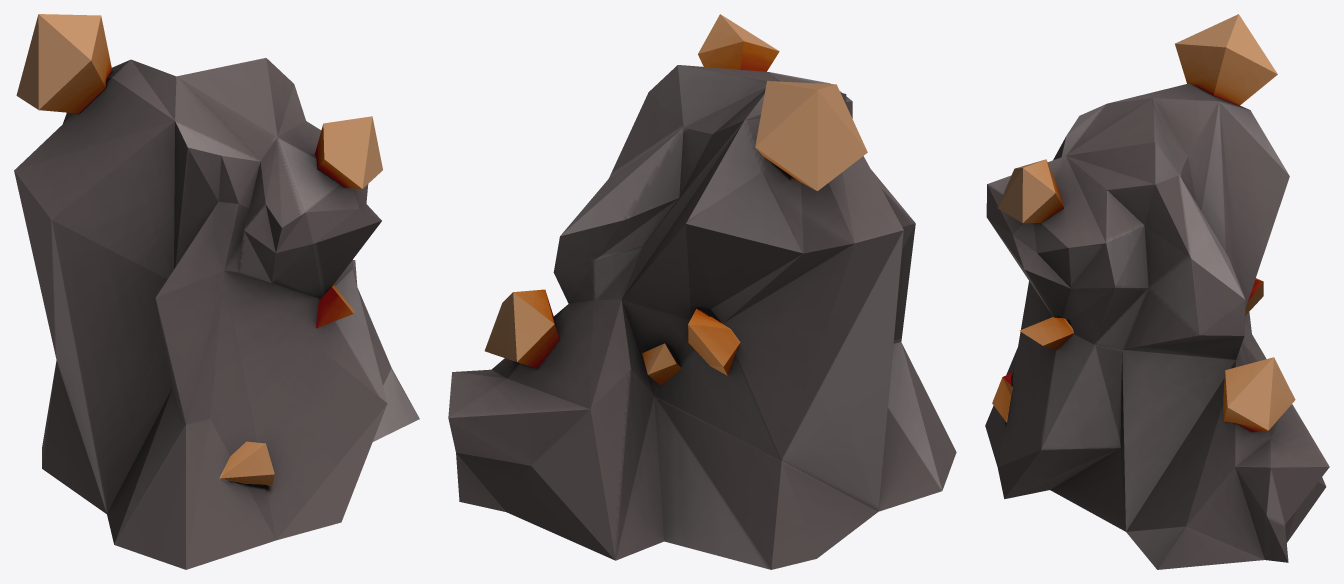
File: vein.FBX
The picture shows the model from 3 angles, left to right: view 1: azimuth 30°, elevation 25°; view 2: azimuth 150°, elevation 25°; view 3: azimuth 270°, elevation 25°; orthographic projection. The views are drawn at different scales.
Parts seen in each view (by area): view 1: Vein; view 2: Vein; view 3: Vein.
Boxes of the visible parts, x1,y1,x2,y2 form: Vein: (14, 14, 419, 569); Vein: (448, 14, 956, 569); Vein: (985, 14, 1329, 569).
Bounding box in the file's own units: 58.58 × 68.66 × 52.34.
